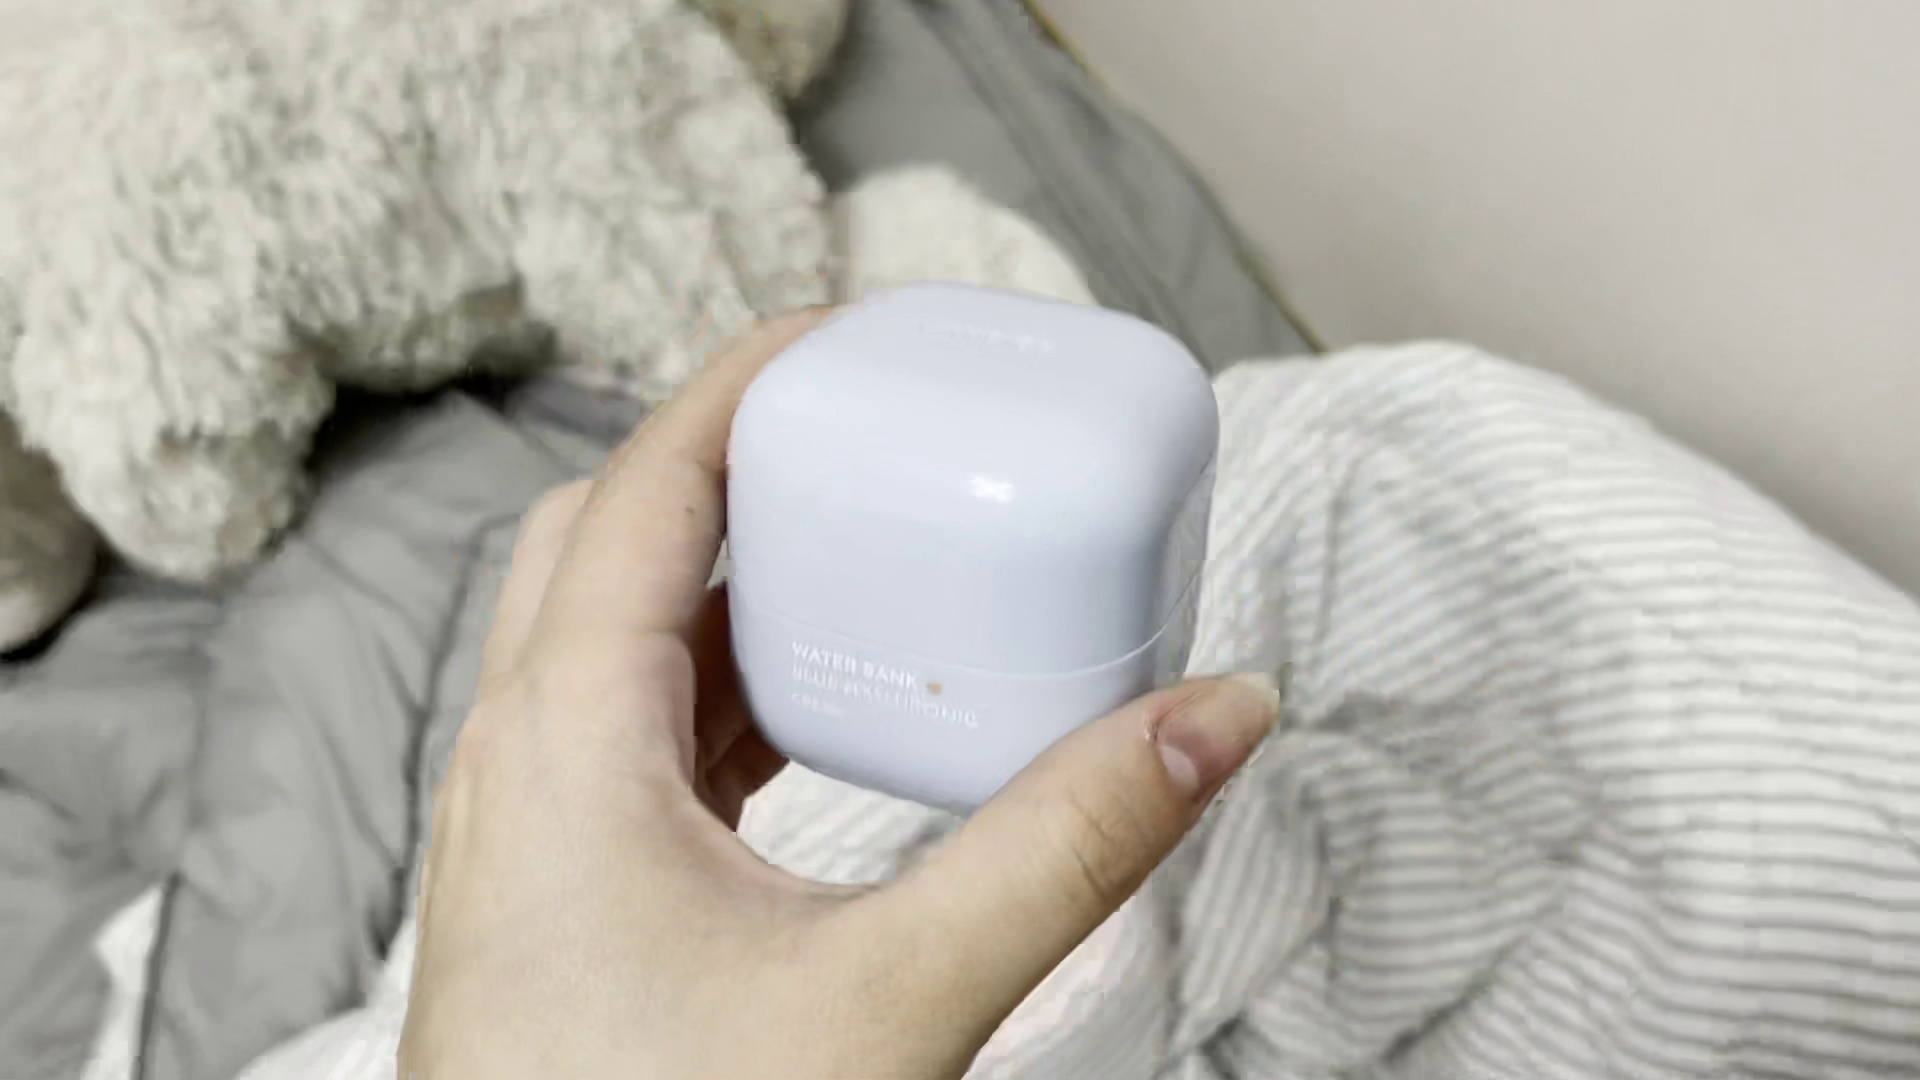cream: (724, 286, 1218, 815)
